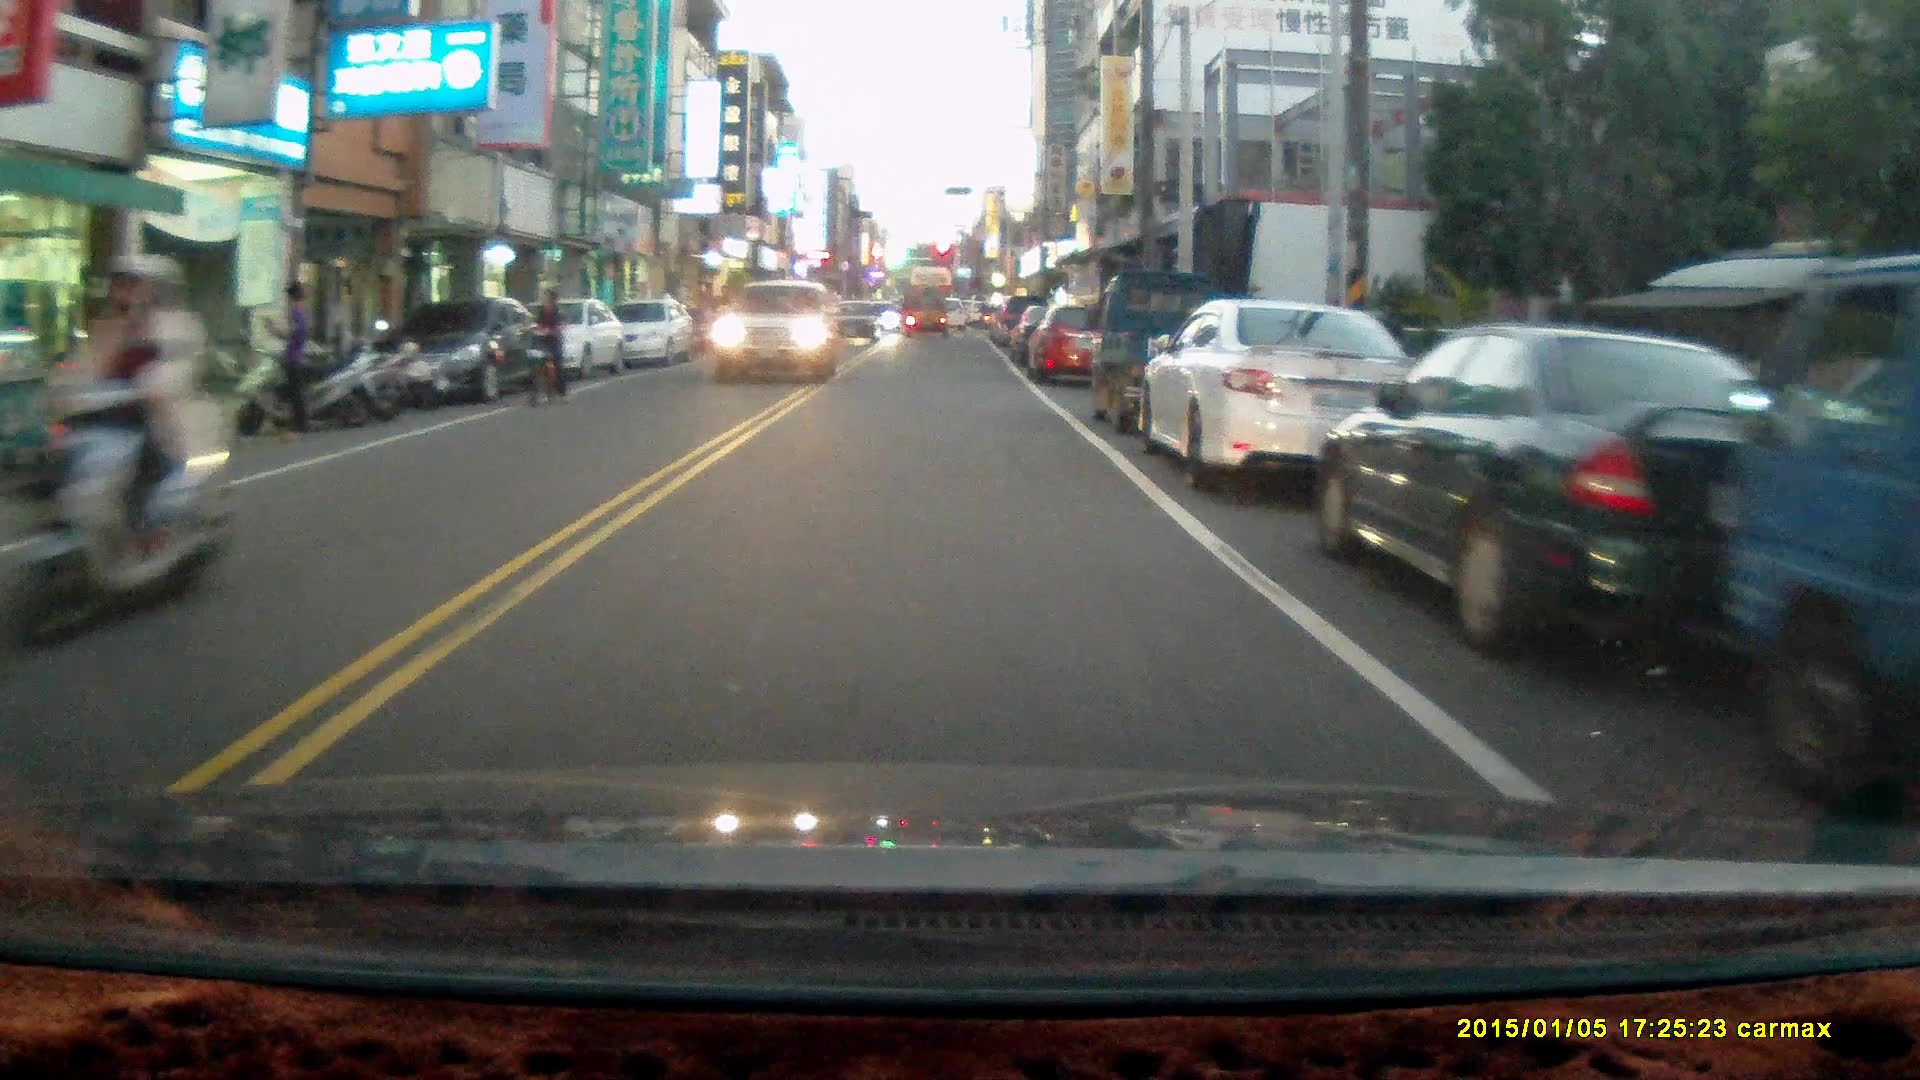pedestrian: (264, 274, 310, 442)
rider: (2, 250, 233, 656), (520, 287, 566, 407)
vehicle: (1310, 322, 1825, 663), (1716, 250, 1920, 820), (1134, 295, 1434, 491), (1090, 262, 1264, 442), (377, 291, 547, 401), (713, 279, 842, 379), (489, 300, 632, 388), (1025, 305, 1130, 386), (595, 297, 697, 365), (825, 297, 887, 349), (899, 283, 952, 340)
